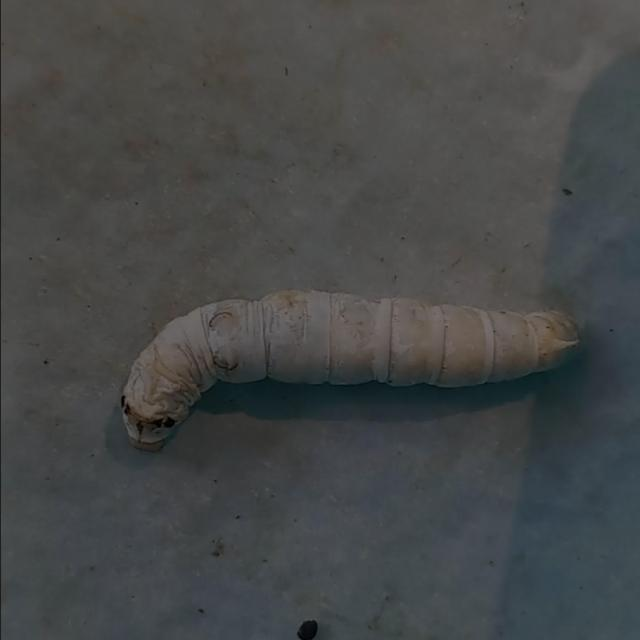Grasserie: (104, 276, 588, 459)
